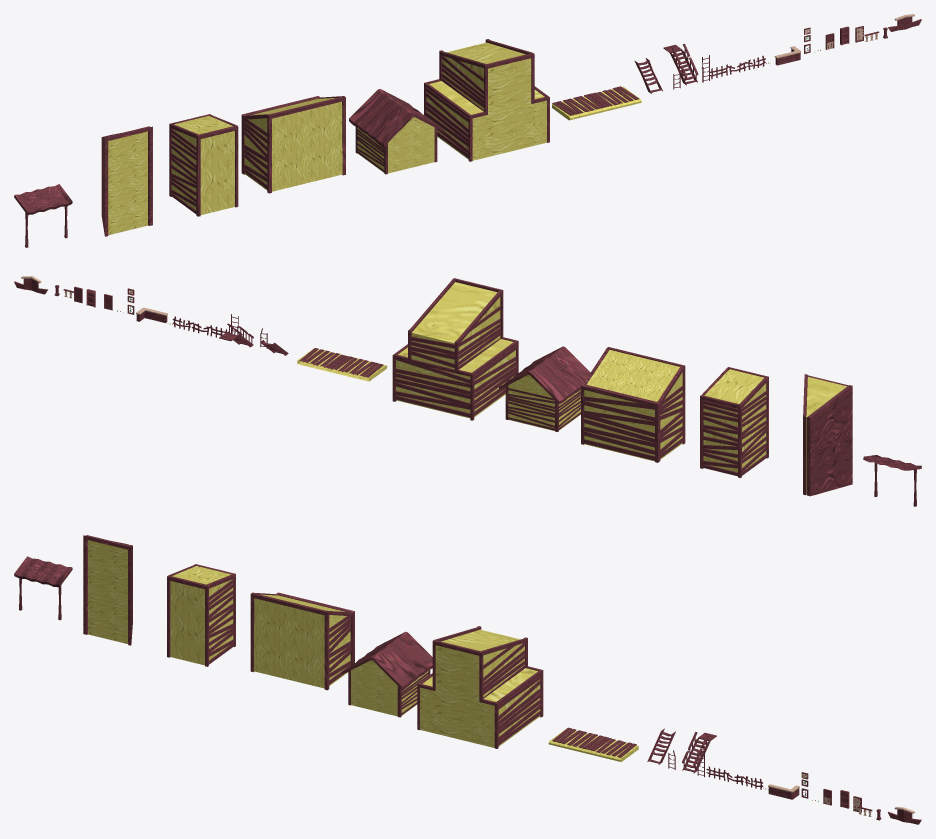
File: adaoassetscaowboyFIM 1.fbx
3 views of the same model, one above another, from view 1: azimuth 30°, elevation 25°; view 2: azimuth 150°, elevation 25°; view 3: azimuth 330°, elevation 25° (orthographic).
Parts seen in each view (by area): view 1: casa5, casa3, casa2, casa4, casa1, chaoOUteto, fretecasa, escada1; view 2: casa5, casa3, casa2, casa1, casa4, chaoOUteto, fretecasa; view 3: casa5, casa3, casa2, casa4, casa1, chaoOUteto, fretecasa, escada1.
Part boxes in pixels (x1=…): casa5: x1=424, y1=39, x2=549, y2=161; casa3: x1=241, y1=96, x2=345, y2=193; casa2: x1=169, y1=114, x2=238, y2=216; casa4: x1=349, y1=89, x2=443, y2=174; casa1: x1=101, y1=126, x2=152, y2=236; chaoOUteto: x1=552, y1=86, x2=641, y2=120; fretecasa: x1=14, y1=184, x2=72, y2=247; escada1: x1=663, y1=44, x2=698, y2=85; casa5: x1=392, y1=278, x2=518, y2=420; casa3: x1=581, y1=347, x2=685, y2=462; casa2: x1=700, y1=367, x2=768, y2=477; casa1: x1=803, y1=374, x2=852, y2=496; casa4: x1=499, y1=346, x2=590, y2=431; chaoOUteto: x1=297, y1=348, x2=387, y2=381; fretecasa: x1=863, y1=455, x2=921, y2=506; casa5: x1=417, y1=626, x2=543, y2=748; casa3: x1=250, y1=592, x2=354, y2=690; casa2: x1=167, y1=564, x2=235, y2=666; casa4: x1=342, y1=631, x2=432, y2=717; casa1: x1=83, y1=535, x2=132, y2=645; chaoOUteto: x1=548, y1=727, x2=638, y2=761; fretecasa: x1=14, y1=556, x2=72, y2=620; escada1: x1=682, y1=732, x2=716, y2=773.
Size of the model in its own units: 12339 by 1291 by 1114.
